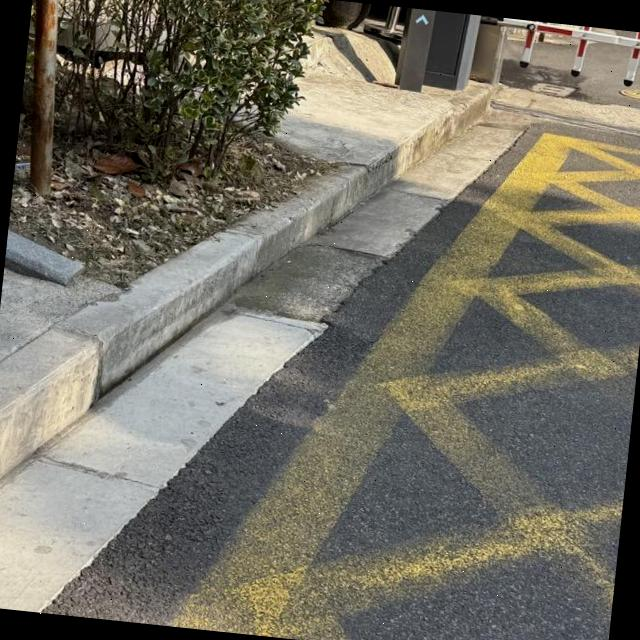curb: (0, 84, 497, 476)
